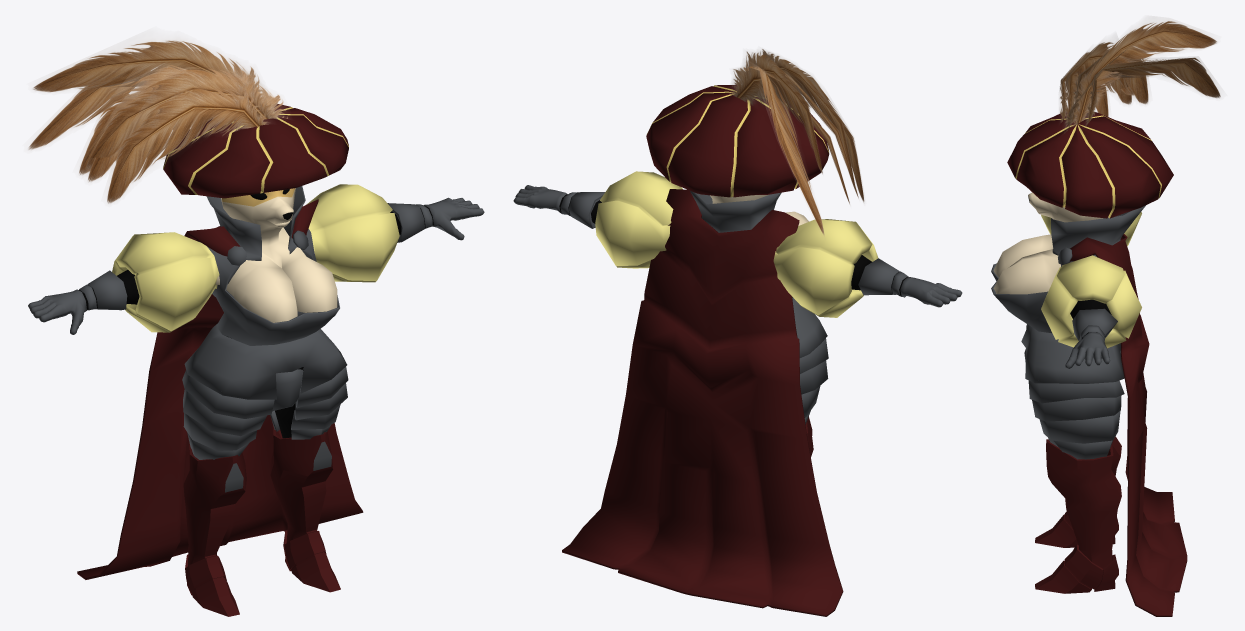
3 renders of one model, left to right at view 1: azimuth 30°, elevation 25°; view 2: azimuth 150°, elevation 25°; view 3: azimuth 270°, elevation 25°, orthographic. The views are drawn at different scales.
Parts seen in each view (by area): view 1: armadura, capa, botas, sombrero, cuerpo, armadura-muslos, Pluma dorada texturizada sobre transparencia.003, Pluma dorada texturizada sobre transparencia.002, Pluma dorada texturizada sobre transparencia.001, Pluma dorada texturizada sobre transparencia, Pluma dorada texturizada sobre transparencia.005, Pluma dorada texturizada sobre transparencia.004; view 2: capa, armadura, sombrero, Pluma dorada texturizada sobre transparencia, Pluma dorada texturizada sobre transparencia.002, Pluma dorada texturizada sobre transparencia.001, Pluma dorada texturizada sobre transparencia.005, armadura-muslos, Pluma dorada texturizada sobre transparencia.003, Pluma dorada texturizada sobre transparencia.004; view 3: armadura, sombrero, capa, botas, armadura-muslos, Pluma dorada texturizada sobre transparencia.002, cuerpo, Pluma dorada texturizada sobre transparencia, Pluma dorada texturizada sobre transparencia.001, Pluma dorada texturizada sobre transparencia.005, Pluma dorada texturizada sobre transparencia.003, Pluma dorada texturizada sobre transparencia.004.
Part boxes in pixels (x1,y1,x2,y2): armadura: (28,184,484,411); capa: (77,199,363,579); botas: (183,425,340,616); sombrero: (163,104,348,198); cuerpo: (216,188,337,438); armadura-muslos: (182,367,348,459); Pluma dorada texturizada sobre transparencia.003: (107,87,270,203); Pluma dorada texturizada sobre transparencia.002: (33,36,265,92); Pluma dorada texturizada sobre transparencia.001: (85,70,280,169); Pluma dorada texturizada sobre transparencia: (28,71,287,149); Pluma dorada texturizada sobre transparencia.005: (79,64,236,175); Pluma dorada texturizada sobre transparencia.004: (88,68,277,182); capa: (562,189,843,616); armadura: (513,171,962,357); sombrero: (646,84,829,197); Pluma dorada texturizada sobre transparencia: (732,66,824,235); Pluma dorada texturizada sobre transparencia.002: (741,51,822,173); Pluma dorada texturizada sobre transparencia.001: (756,49,855,190); Pluma dorada texturizada sobre transparencia.005: (730,60,849,203); armadura-muslos: (799,338,828,424); Pluma dorada texturizada sobre transparencia.003: (774,57,864,202); Pluma dorada texturizada sobre transparencia.004: (741,54,858,198); armadura: (991,205,1145,383); sombrero: (1007,112,1173,218); capa: (1070,234,1187,616); botas: (1035,436,1121,593); armadura-muslos: (1028,380,1124,459); Pluma dorada texturizada sobre transparencia.002: (1072,17,1216,126); cuerpo: (993,192,1108,294); Pluma dorada texturizada sobre transparencia: (1064,57,1220,133); Pluma dorada texturizada sobre transparencia.001: (1064,37,1134,127); Pluma dorada texturizada sobre transparencia.005: (1085,50,1148,126); Pluma dorada texturizada sobre transparencia.003: (1059,51,1108,122); Pluma dorada texturizada sobre transparencia.004: (1069,51,1131,125).
Bounding box in the file's own units: 2.02 × 2.44 × 1.01.
Materials: 9 (1 with a texture image).
